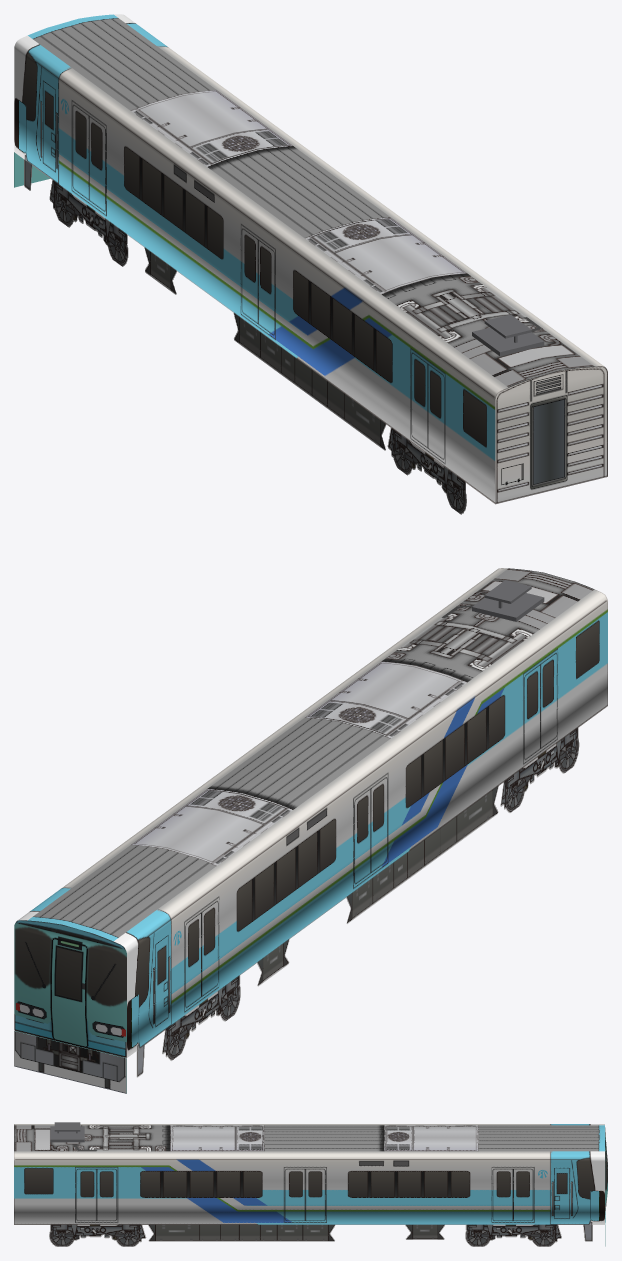
The model's file is car2.glb.
3 renders of one model, top to bottom at view 1: azimuth 30°, elevation 25°; view 2: azimuth 150°, elevation 25°; view 3: azimuth 270°, elevation 25°, orthographic. The views are drawn at different scales.
Visible parts, largest first — view 1: irishikawa-ir521-car2; view 2: irishikawa-ir521-car2; view 3: irishikawa-ir521-car2.
Boxes of the visible parts, box(x1,y1,x2,y2) form: irishikawa-ir521-car2: box(14, 14, 607, 514); irishikawa-ir521-car2: box(14, 568, 607, 1093); irishikawa-ir521-car2: box(14, 1122, 607, 1246).
Bounding box in the file's own units: 2.8 × 4.01 × 20.82.
6 materials, 5 textured.
